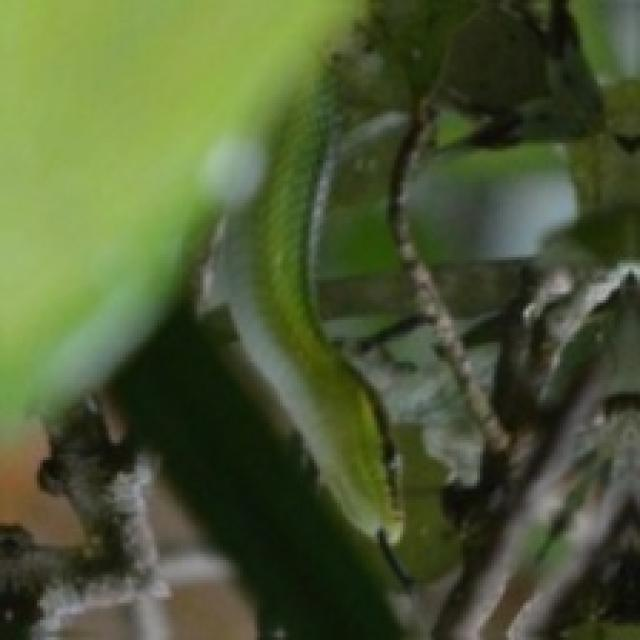red-tailed green ratsnake: (198, 102, 402, 542)
